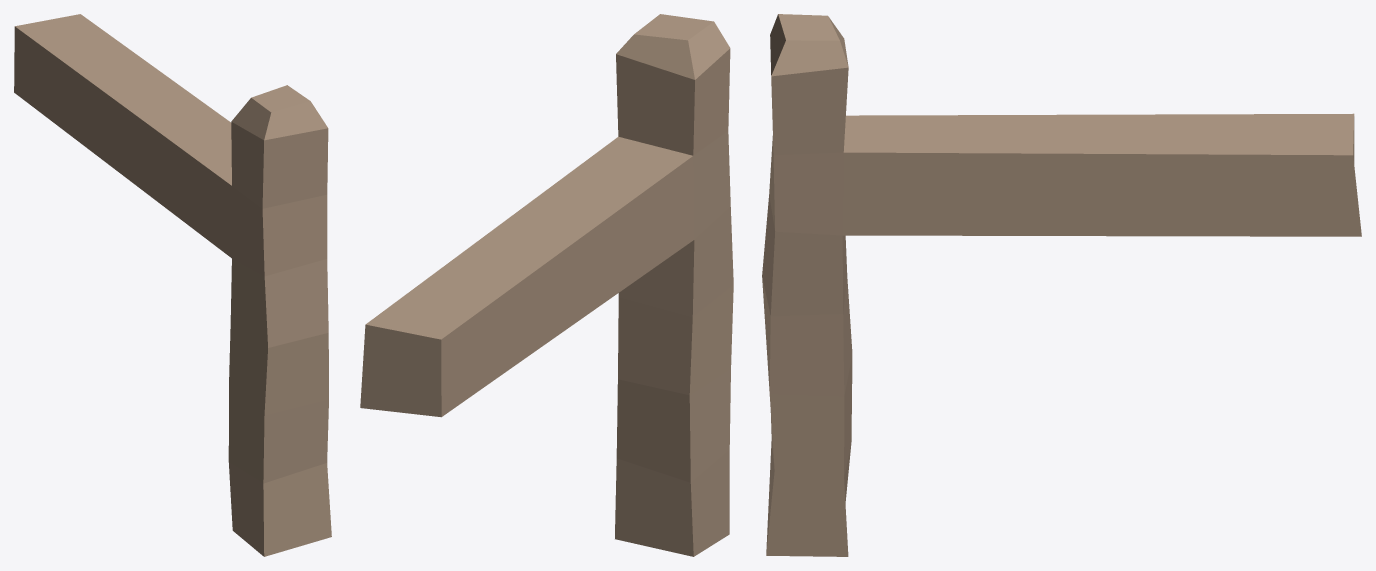
File: Fence4.fbx
3 renders of one model, left to right at view 1: azimuth 30°, elevation 25°; view 2: azimuth 150°, elevation 25°; view 3: azimuth 270°, elevation 25°, orthographic. The views are drawn at different scales.
Visible parts, largest first — view 1: Cube; view 2: Cube; view 3: Cube.
Boxes of the visible parts, bbox=[...] form: Cube: bbox=[14, 14, 331, 556]; Cube: bbox=[360, 14, 733, 556]; Cube: bbox=[762, 14, 1361, 556].
Size of the model in its own units: 30.86 by 192 by 203.
